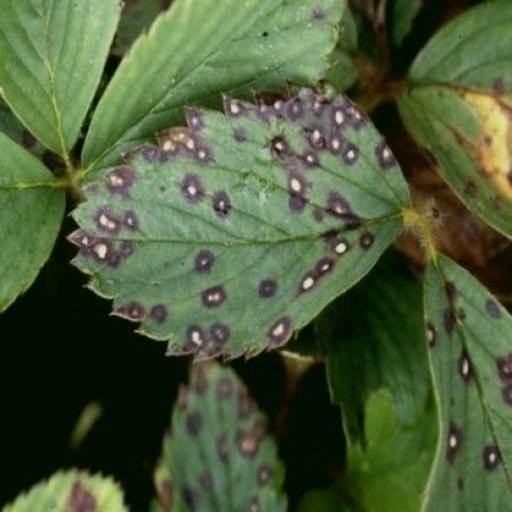Leaf Spot: (97, 147, 447, 434), (164, 329, 433, 511), (0, 272, 117, 511), (220, 0, 363, 154), (380, 0, 511, 44)
